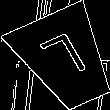L_SE: (37, 30, 94, 89)
